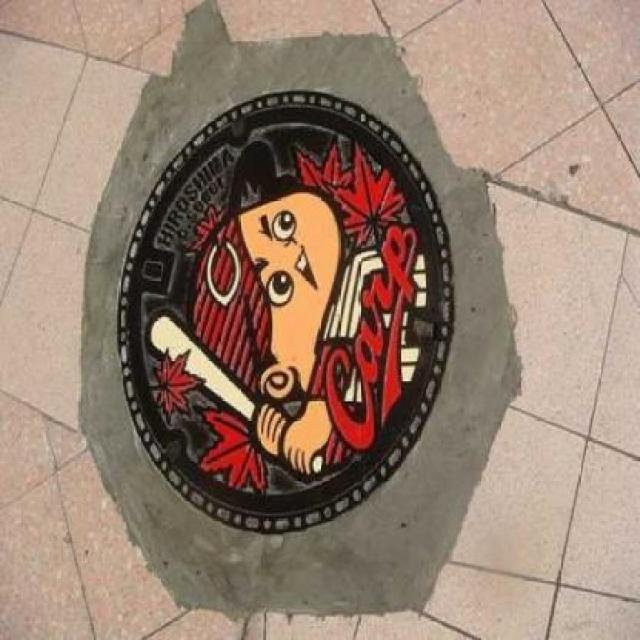Manhole: (103, 78, 466, 544)
